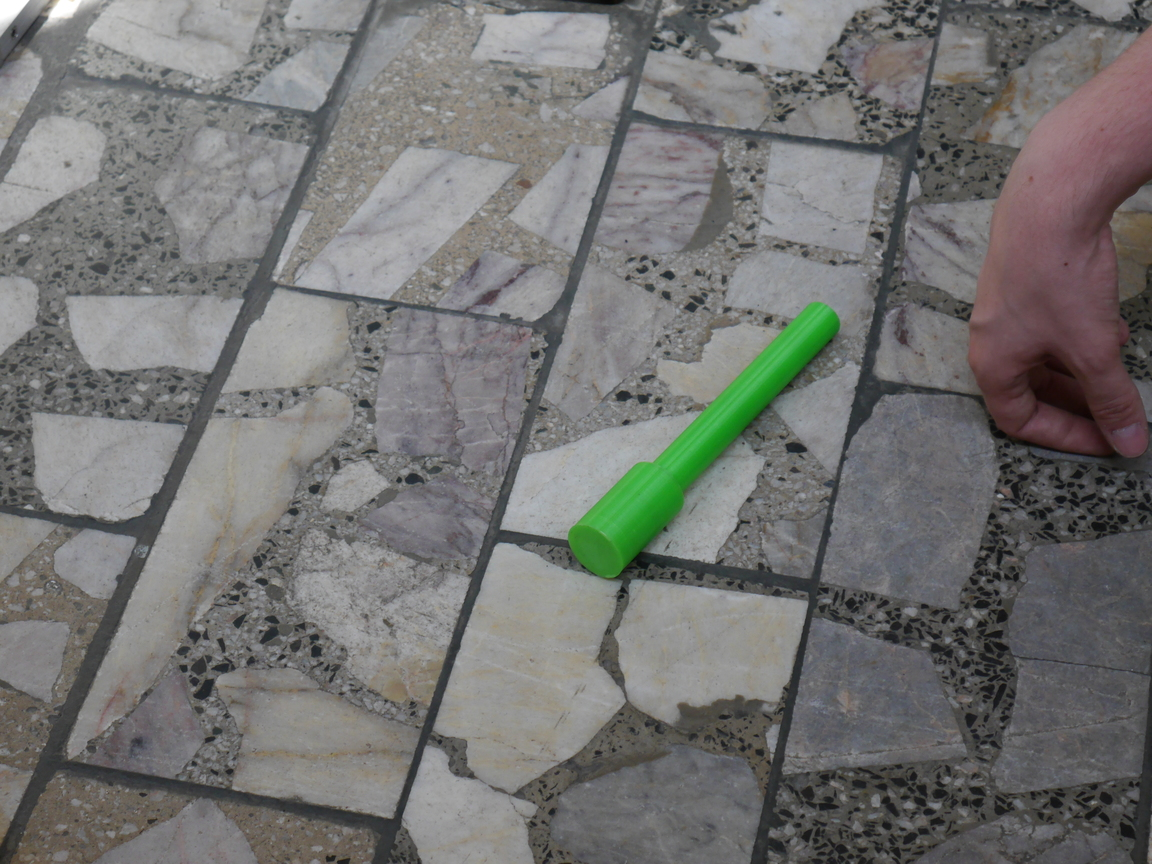cargo_g: (568, 302, 841, 578)
